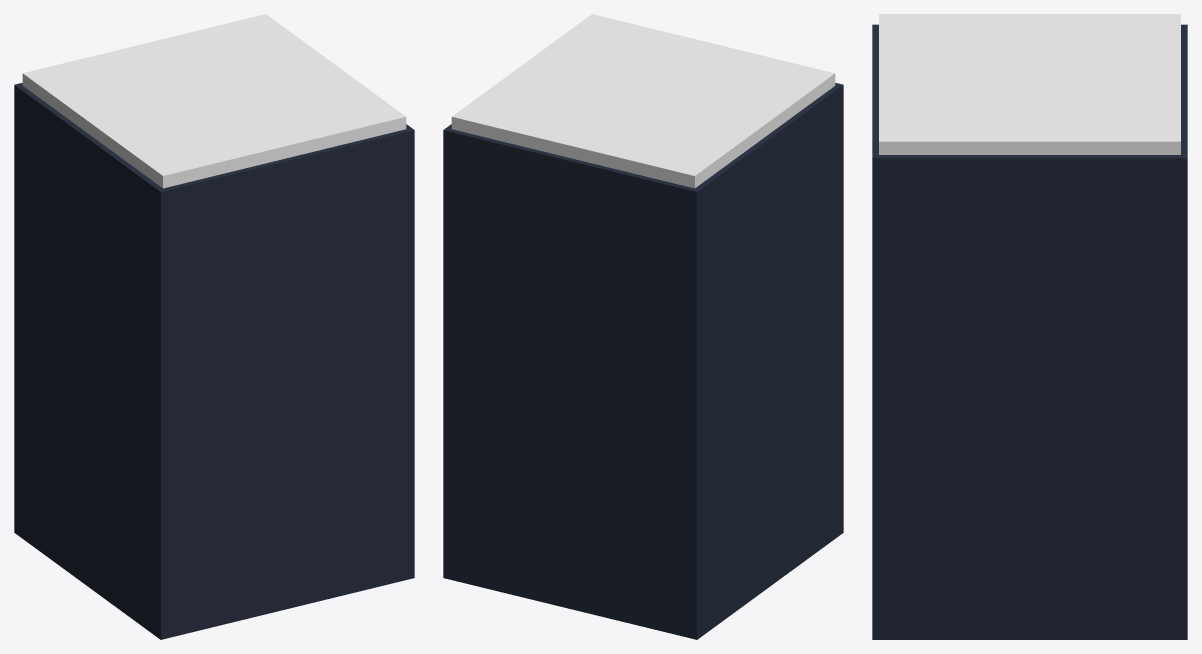
Rendered from WinterRockA_02.fbx.
3 renders of one model, left to right at view 1: azimuth 30°, elevation 25°; view 2: azimuth 150°, elevation 25°; view 3: azimuth 270°, elevation 25°, orthographic. The views are drawn at different scales.
Visible parts, largest first — view 1: WinterRockA_02; view 2: WinterRockA_02; view 3: WinterRockA_02.
Part boxes in pixels (x1=…): WinterRockA_02: x1=14, y1=14, x2=414, y2=639; WinterRockA_02: x1=443, y1=14, x2=843, y2=639; WinterRockA_02: x1=872, y1=14, x2=1187, y2=639.
Size of the model in its own units: 0.6416 by 1.11 by 0.6417.
